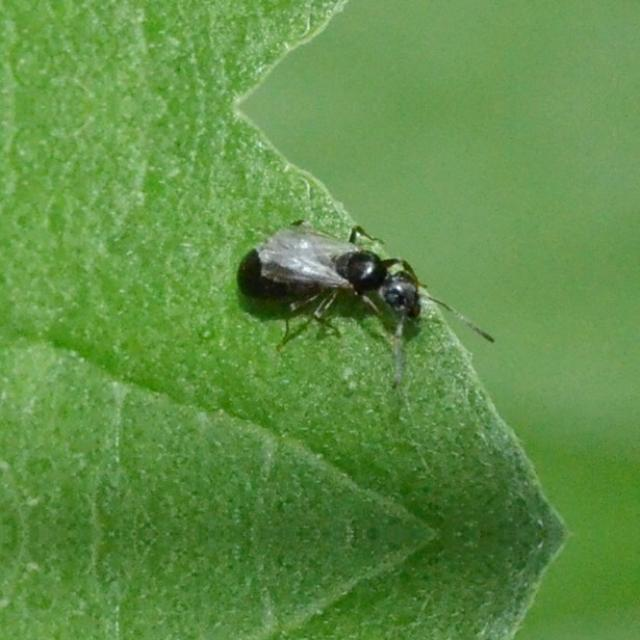Tapinoma: (213, 212, 479, 348)
